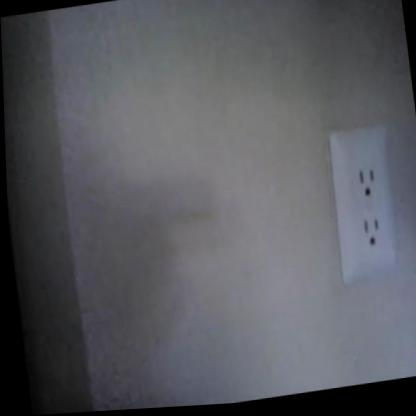OUTLET: (323, 123, 403, 288)
